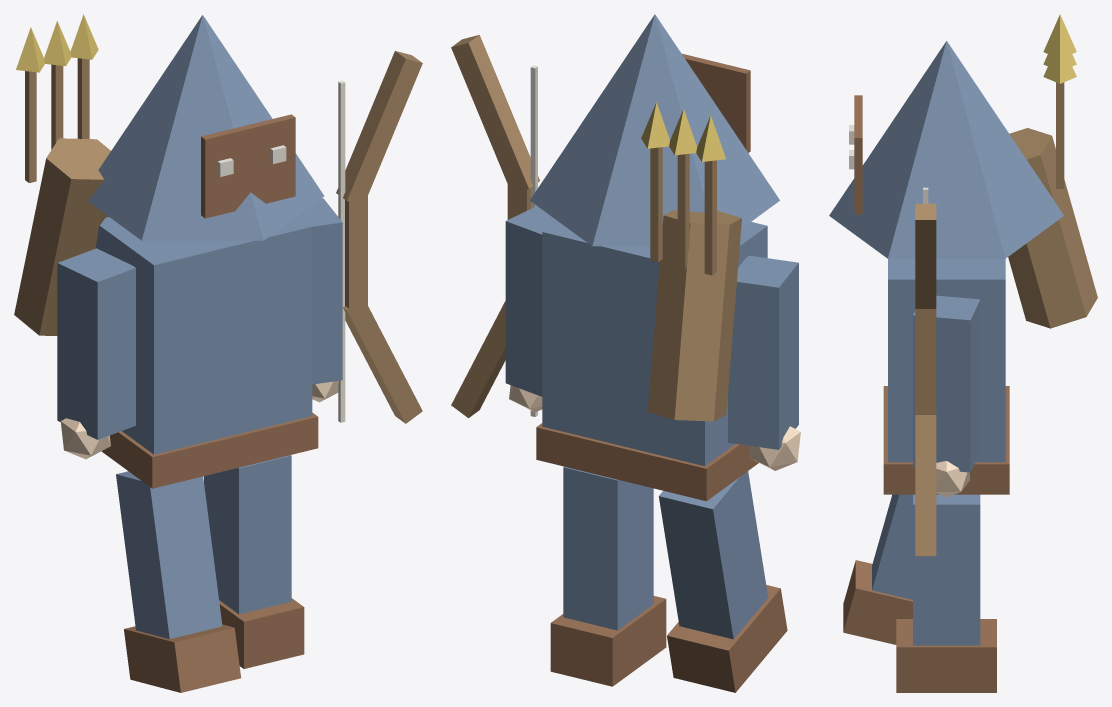
The model's file is npcpose_archer_walk_00.glb.
3 renders of one model, left to right at view 1: azimuth 30°, elevation 25°; view 2: azimuth 150°, elevation 25°; view 3: azimuth 270°, elevation 25°, orthographic. The views are drawn at different scales.
Visible parts, largest first — view 1: npcpose; view 2: npcpose; view 3: npcpose.
Part boxes in pixels (left/top/right/bottom): npcpose: left=14, top=14, right=422, bottom=692; npcpose: left=451, top=14, right=800, bottom=692; npcpose: left=829, top=14, right=1097, bottom=692.
Bounding box in the file's own units: 0.9089 × 1.63 × 0.64.
